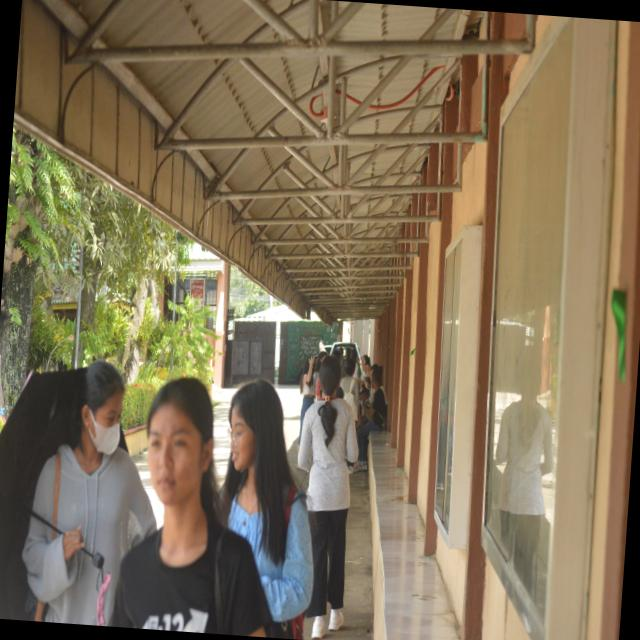person: (112, 378, 270, 636), (23, 361, 156, 623), (221, 380, 313, 638), (298, 357, 358, 638), (354, 368, 387, 471)
